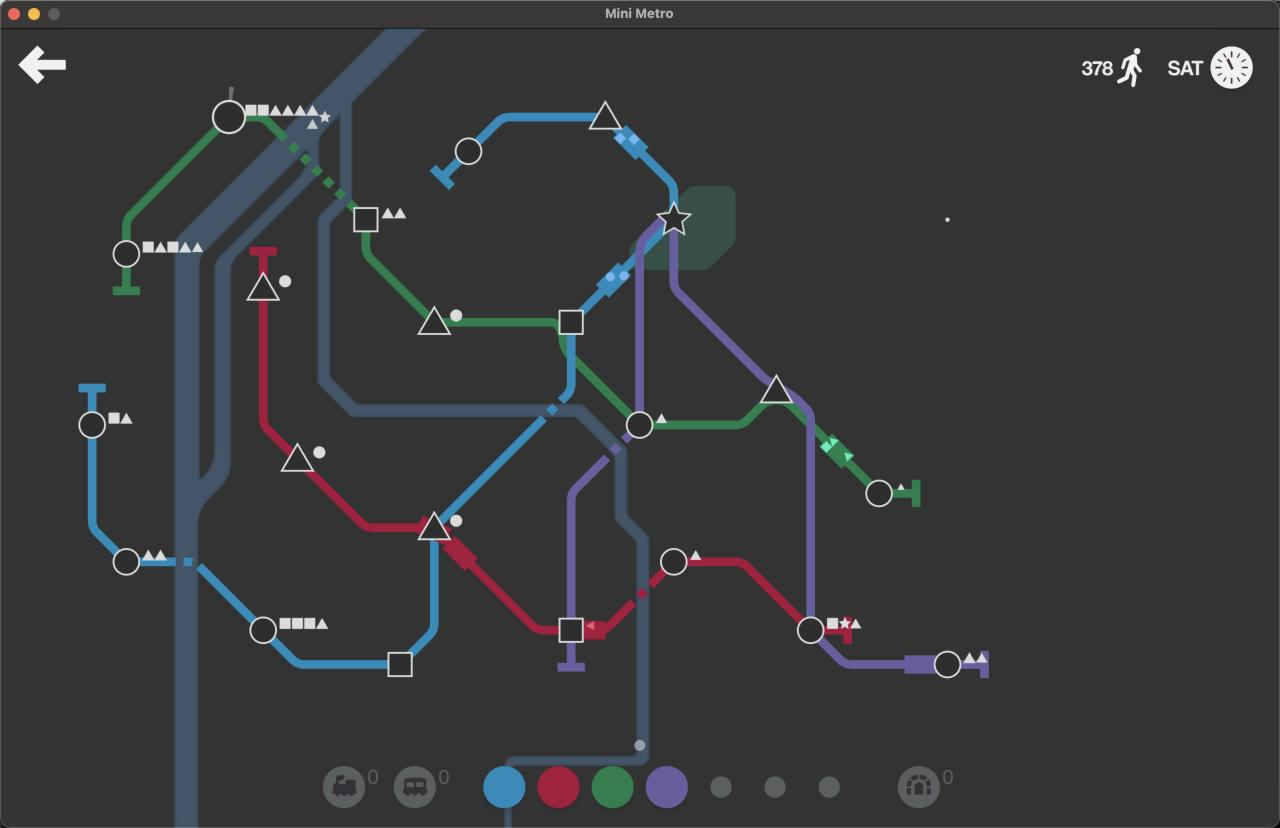CIRCLE: (211, 99, 247, 135), (865, 478, 894, 509), (796, 615, 825, 645), (112, 547, 141, 577), (659, 547, 688, 576), (78, 410, 107, 439), (625, 410, 654, 439), (112, 239, 141, 268), (249, 615, 277, 645), (454, 136, 482, 166), (934, 650, 962, 679)
SQUARE: (558, 308, 586, 335), (558, 616, 584, 644), (353, 206, 379, 233), (387, 650, 413, 677)
STAR: (656, 202, 691, 236)
TRIANGLE: (416, 509, 453, 542), (416, 305, 453, 337), (245, 271, 282, 302), (281, 442, 316, 474), (587, 100, 623, 131), (760, 373, 793, 404)
